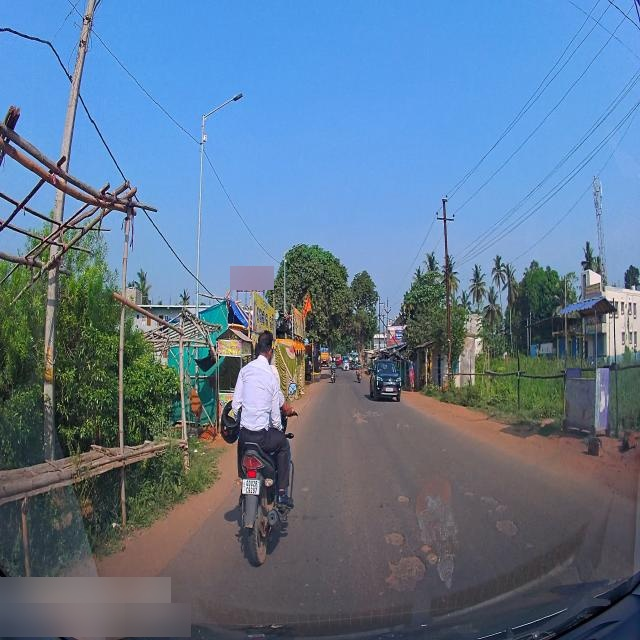pothole: (381, 552, 431, 596), (495, 518, 520, 542), (380, 531, 406, 548), (394, 492, 411, 507)
